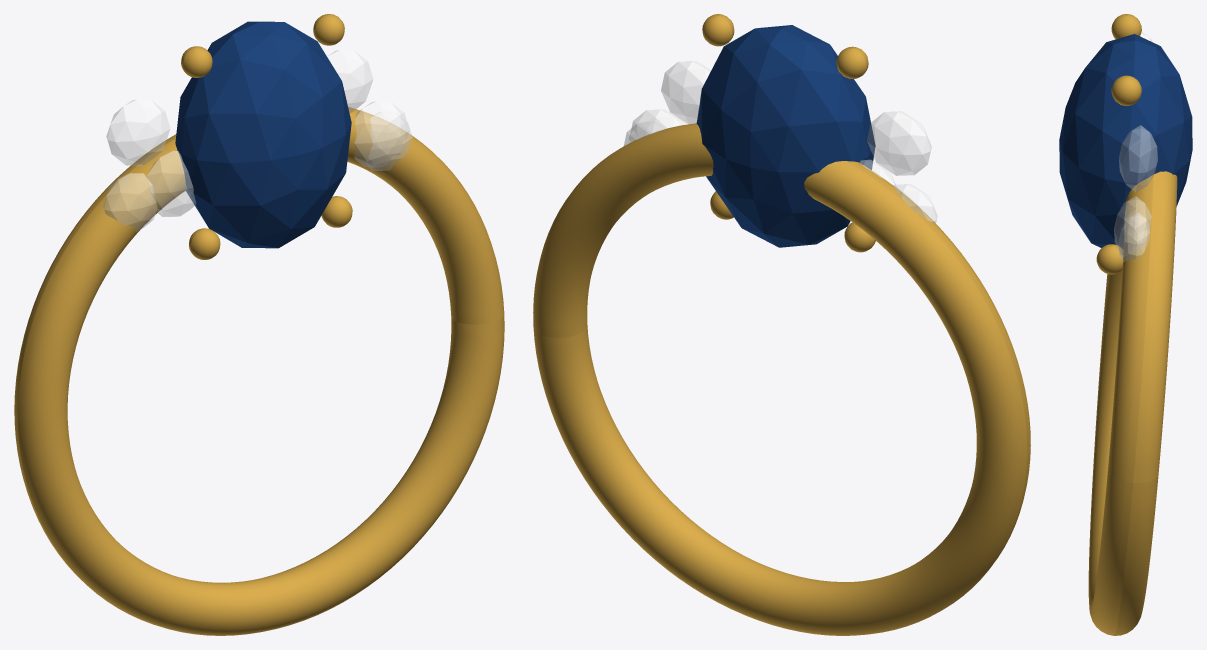
The picture shows the model from 3 angles, left to right: view 1: azimuth 30°, elevation 25°; view 2: azimuth 150°, elevation 25°; view 3: azimuth 270°, elevation 25°; orthographic projection. The views are drawn at different scales.
Parts seen in each view (by area): view 1: Anillo Zafiro Azul — reconstrucción visual; view 2: Anillo Zafiro Azul — reconstrucción visual; view 3: Anillo Zafiro Azul — reconstrucción visual.
Part boxes in pixels (x1,y1,x2,y2): Anillo Zafiro Azul — reconstrucción visual: [14, 14, 504, 635]; Anillo Zafiro Azul — reconstrucción visual: [533, 14, 1030, 635]; Anillo Zafiro Azul — reconstrucción visual: [1059, 14, 1192, 635].
Bounding box in the file's own units: 3.14 × 3.71 × 0.7863.
